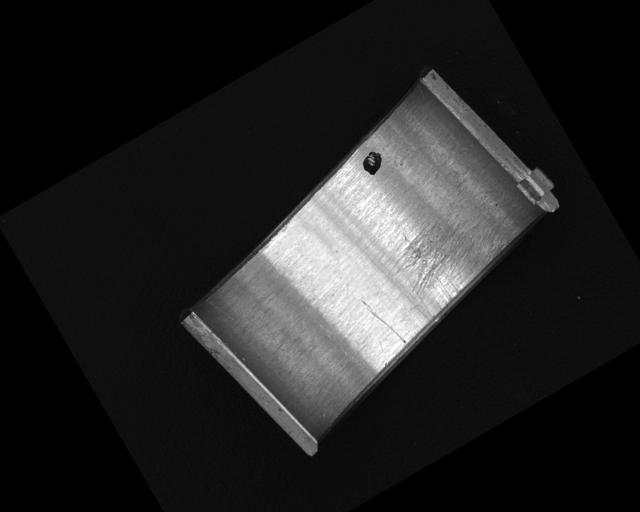blot: (357, 147, 388, 178)
nick: (204, 275, 288, 375), (358, 289, 406, 353)
scratch: (384, 193, 521, 323)
